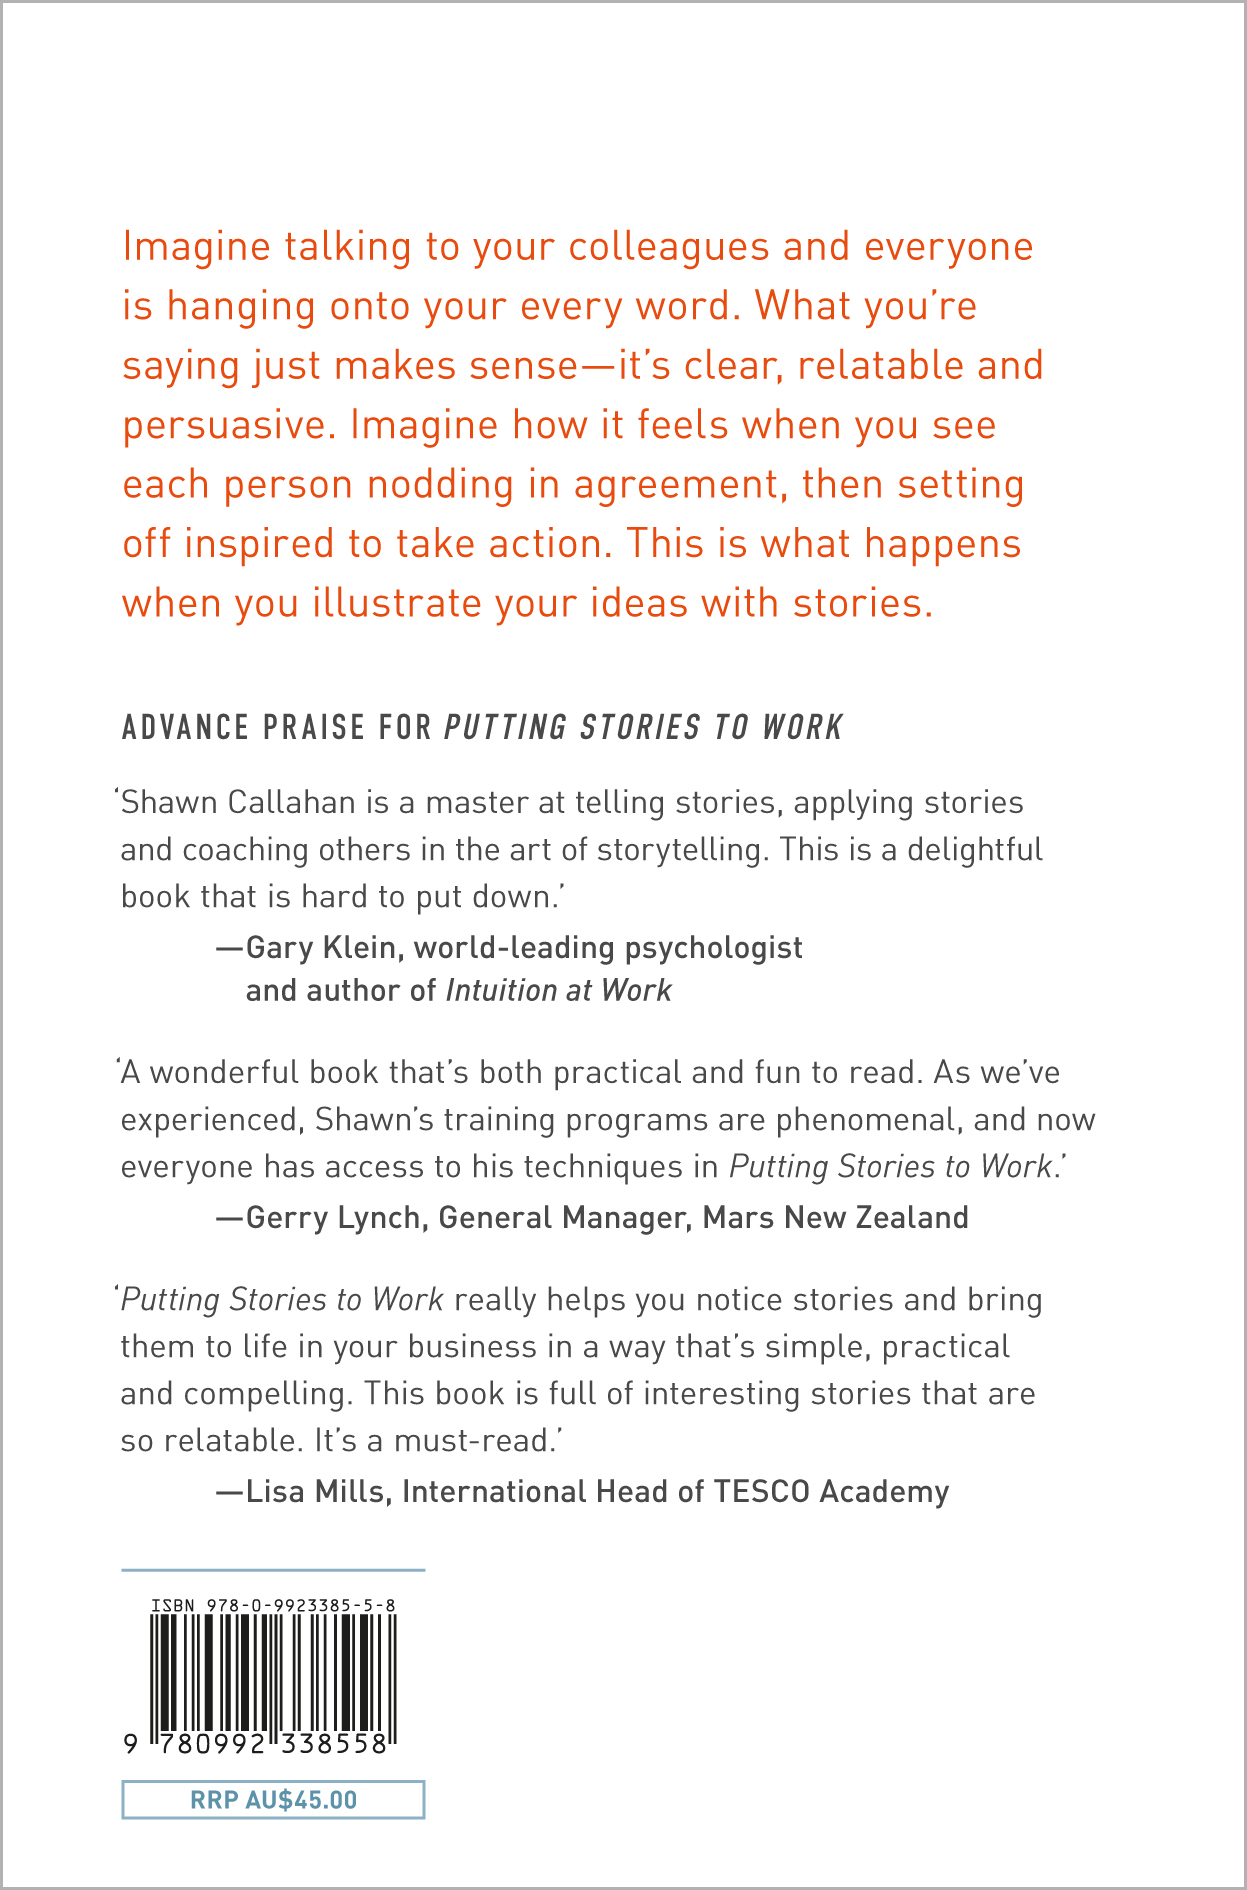barcode: (104, 1573, 422, 1768)
